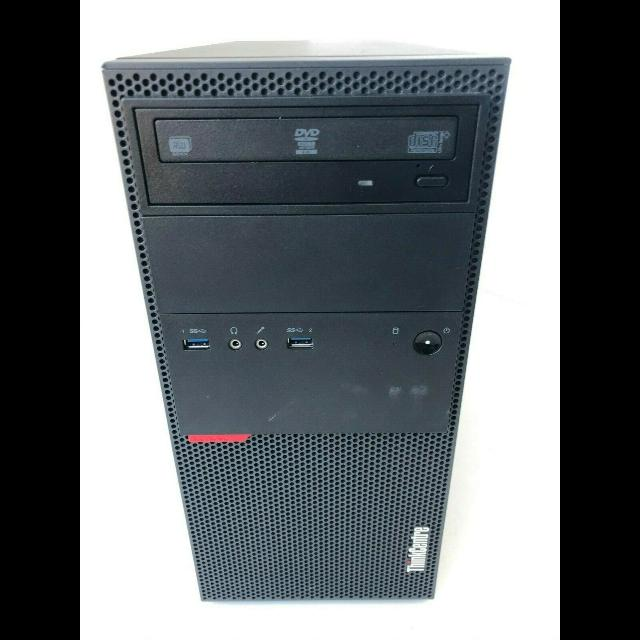Desktop-PC: (99, 36, 519, 606)
